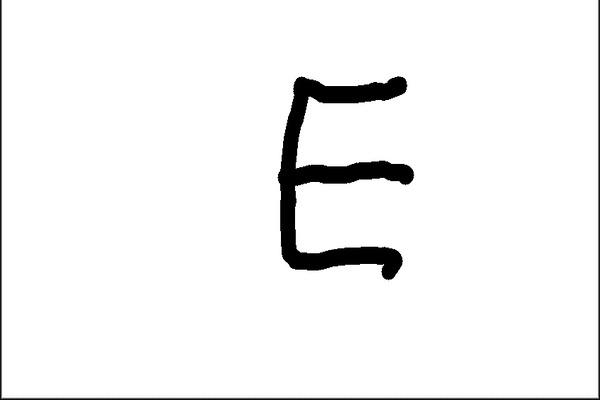E: (267, 69, 431, 283)
